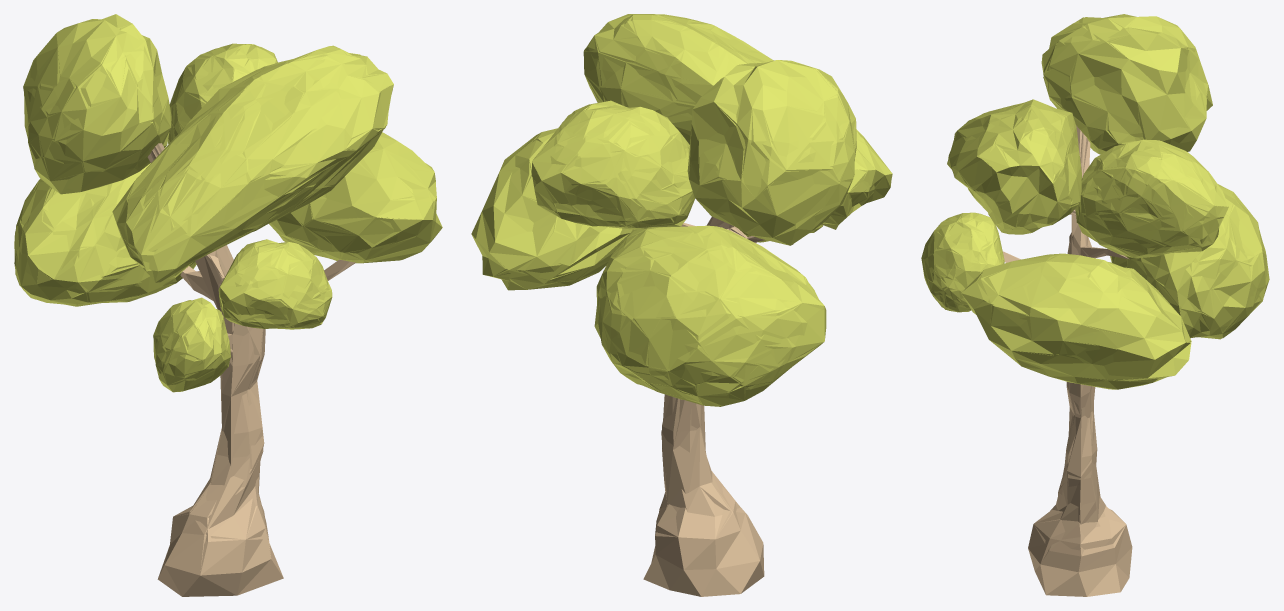
Rendered from Tree_03.fbx.
3 views of the same model, side by side, from view 1: azimuth 30°, elevation 25°; view 2: azimuth 150°, elevation 25°; view 3: azimuth 270°, elevation 25° (orthographic). The views are drawn at different scales.
Parts seen in each view (by area): view 1: Tree_03_0 L, Tree_03_1 L; view 2: Tree_03_0 L, Tree_03_1 L; view 3: Tree_03_0 L, Tree_03_1 L.
Boxes of the visible parts, x1=… form: Tree_03_0 L: x1=14, y1=14, x2=442, y2=596; Tree_03_1 L: x1=14, y1=20, x2=435, y2=575; Tree_03_0 L: x1=471, y1=14, x2=892, y2=596; Tree_03_1 L: x1=489, y1=14, x2=891, y2=560; Tree_03_0 L: x1=923, y1=14, x2=1269, y2=596; Tree_03_1 L: x1=921, y1=17, x2=1268, y2=572.
Size of the model in its own units: 965 by 1391 by 846.
